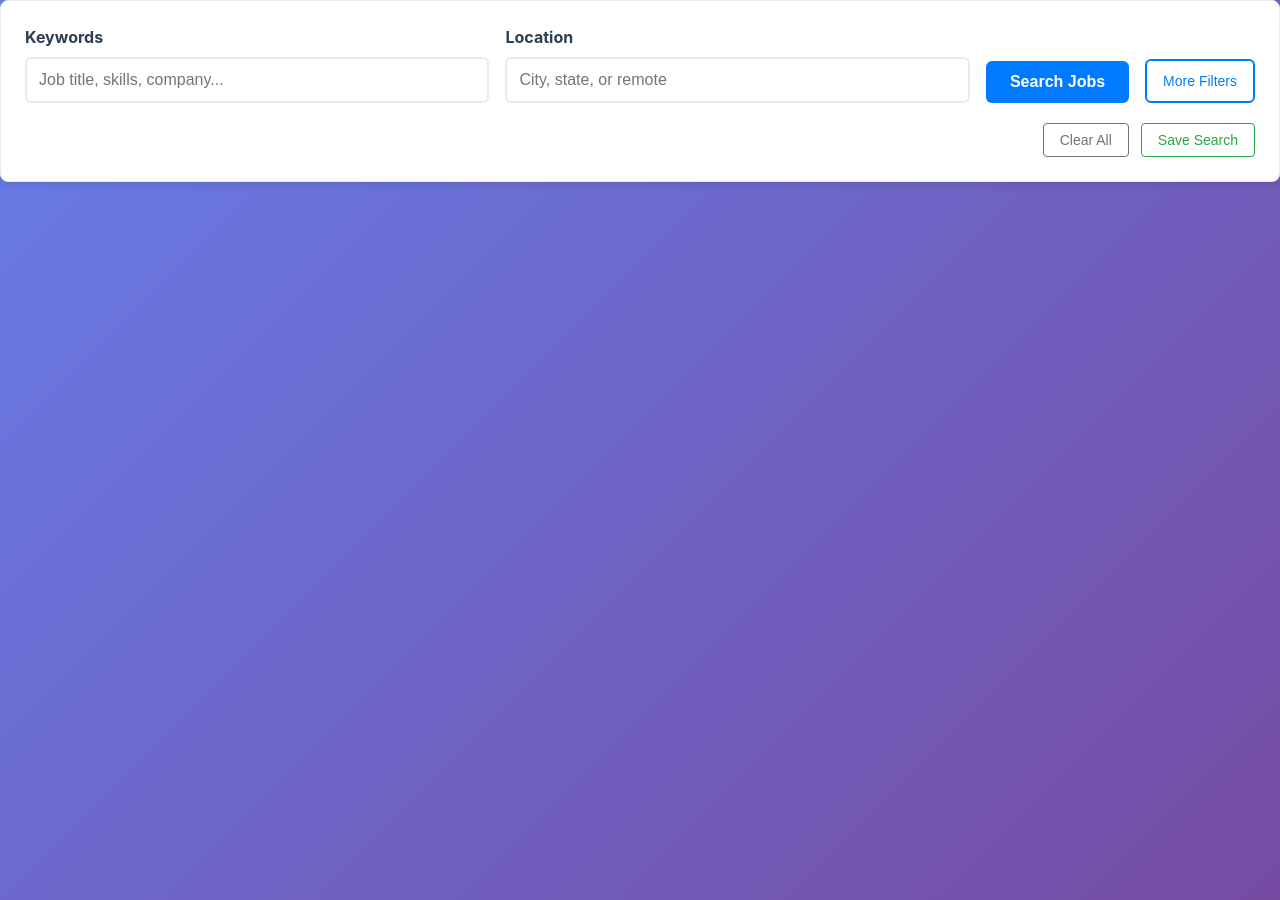
JobSearchComponent › clears form when clear button is clicked
Note: Fill in some values
Type "React Developer" into the field labelled "Keywords" at (257, 80), box [25,57,490,103]
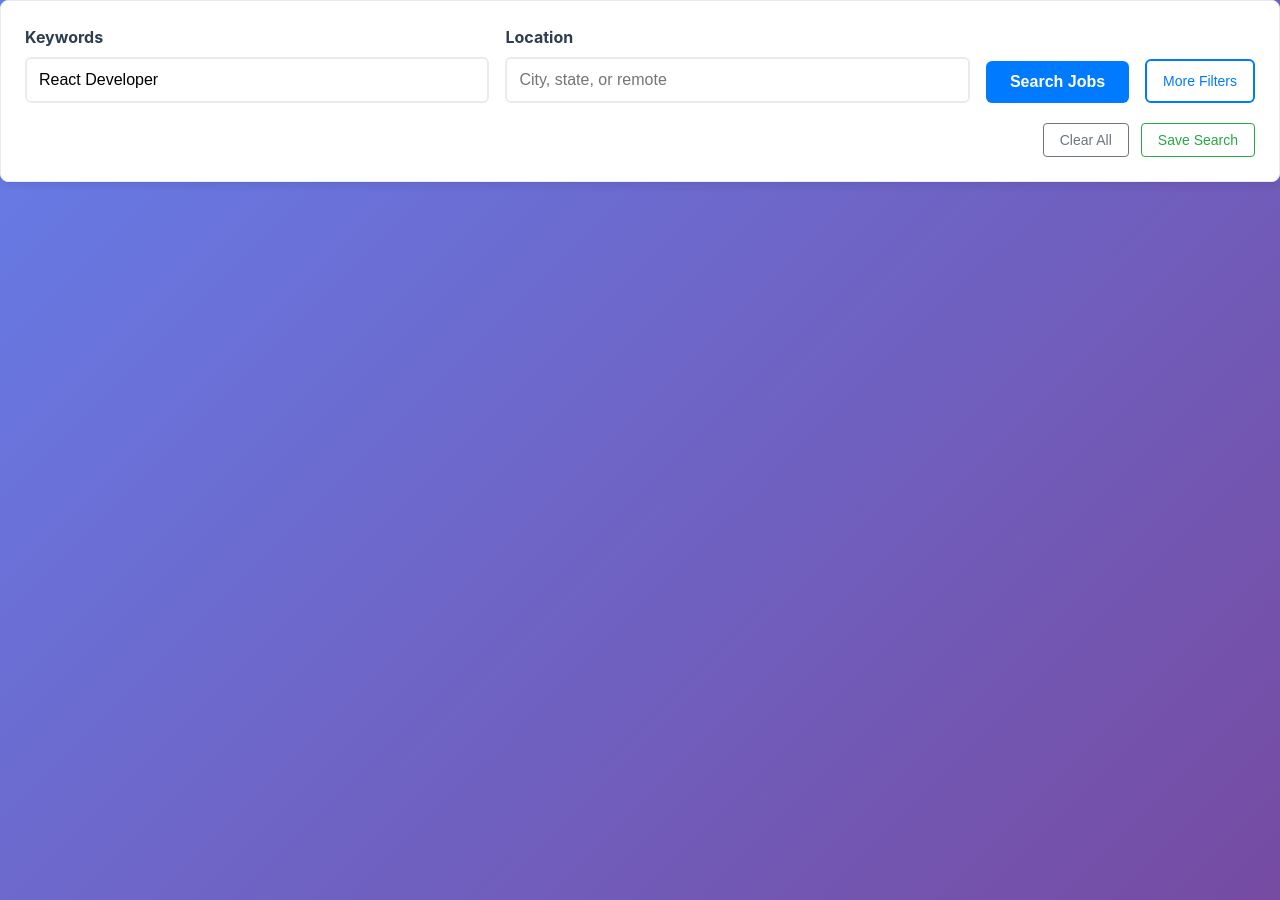
Type "San Francisco" into the field labelled "Location" at (738, 80), box [506,57,970,103]
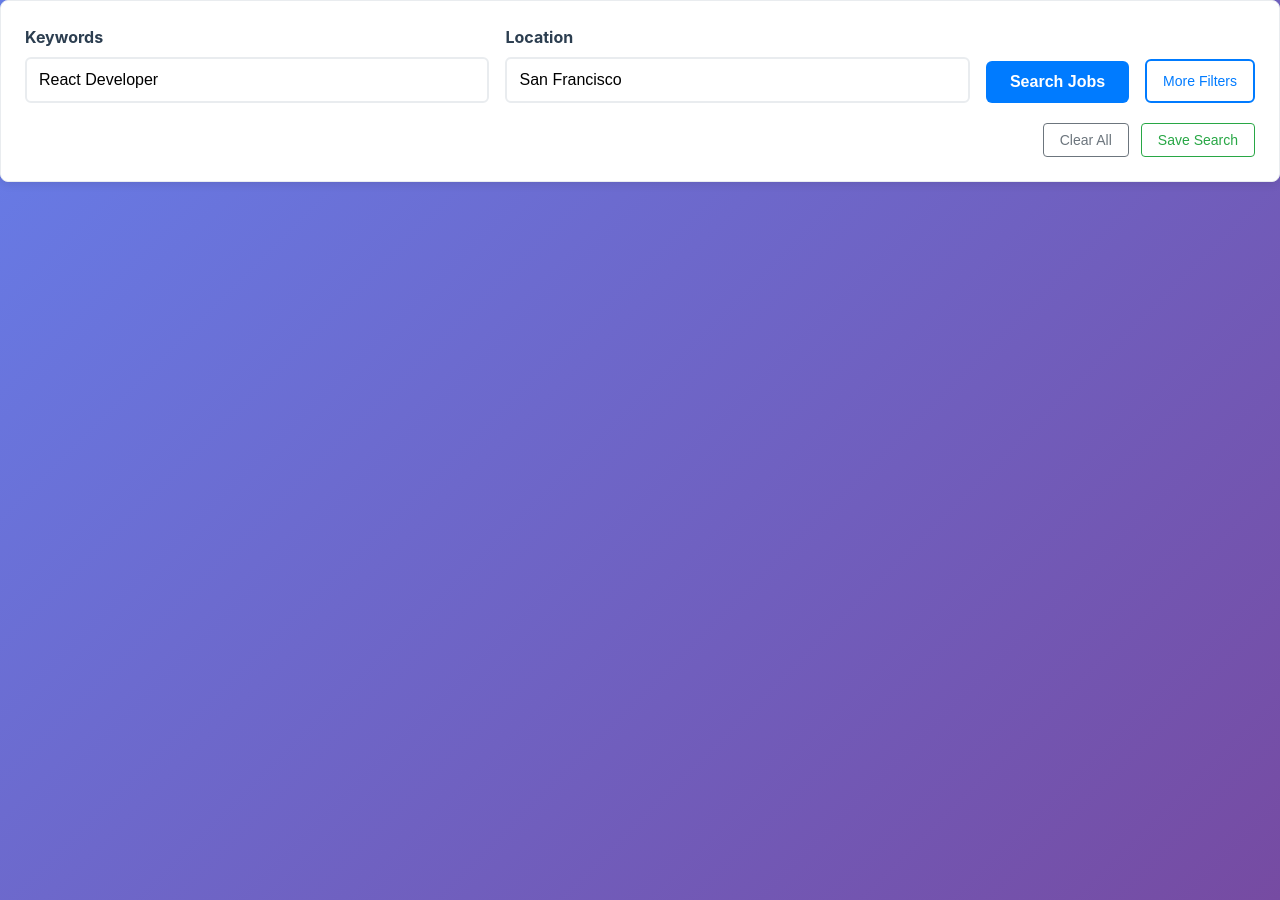
Note: Click clear button
Click the button "Clear All" at (1086, 140), box [1043,123,1129,157]
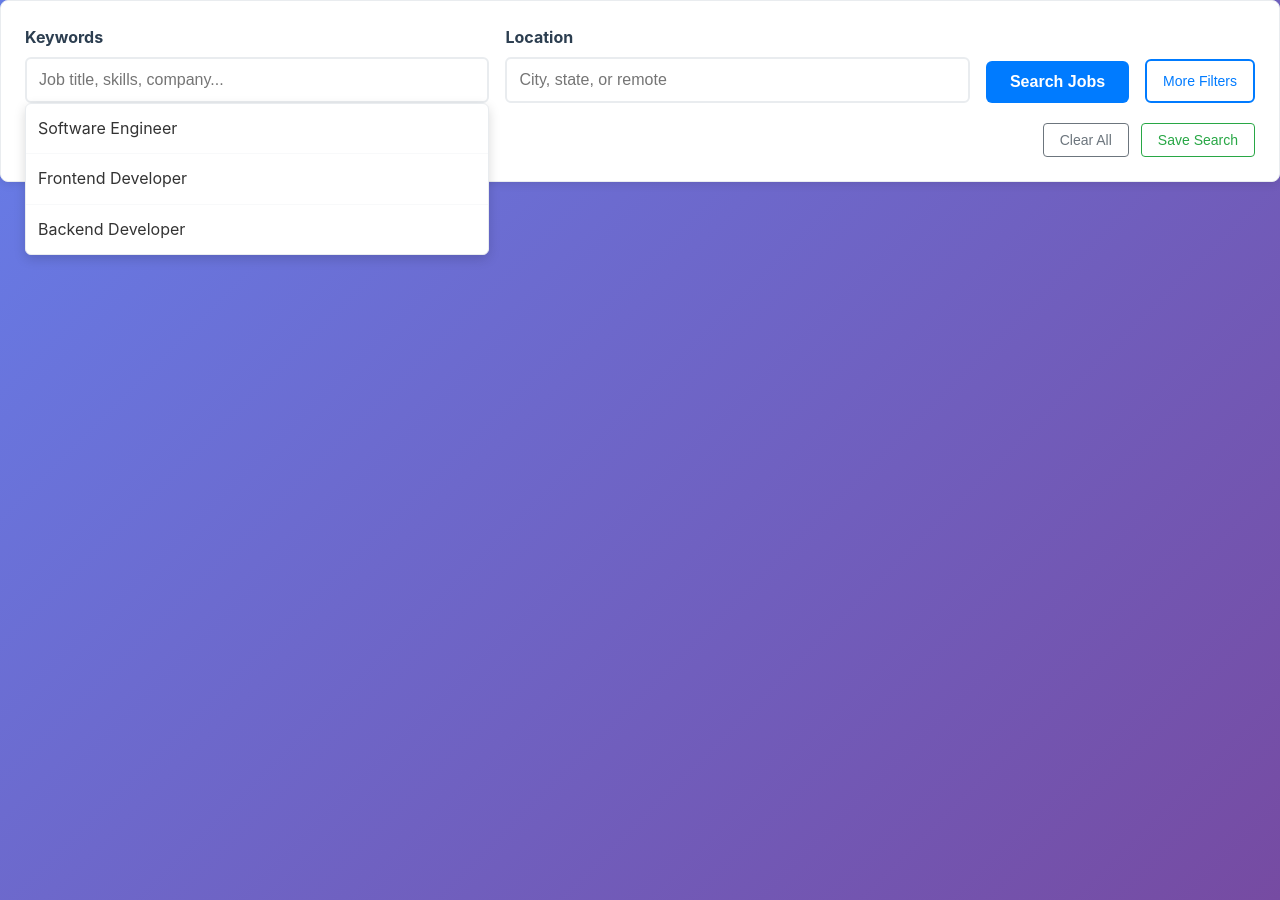
Result: the field labelled "Keywords" is empty at [25,57,490,103]
Result: the field labelled "Location" is empty at [506,57,970,103]
